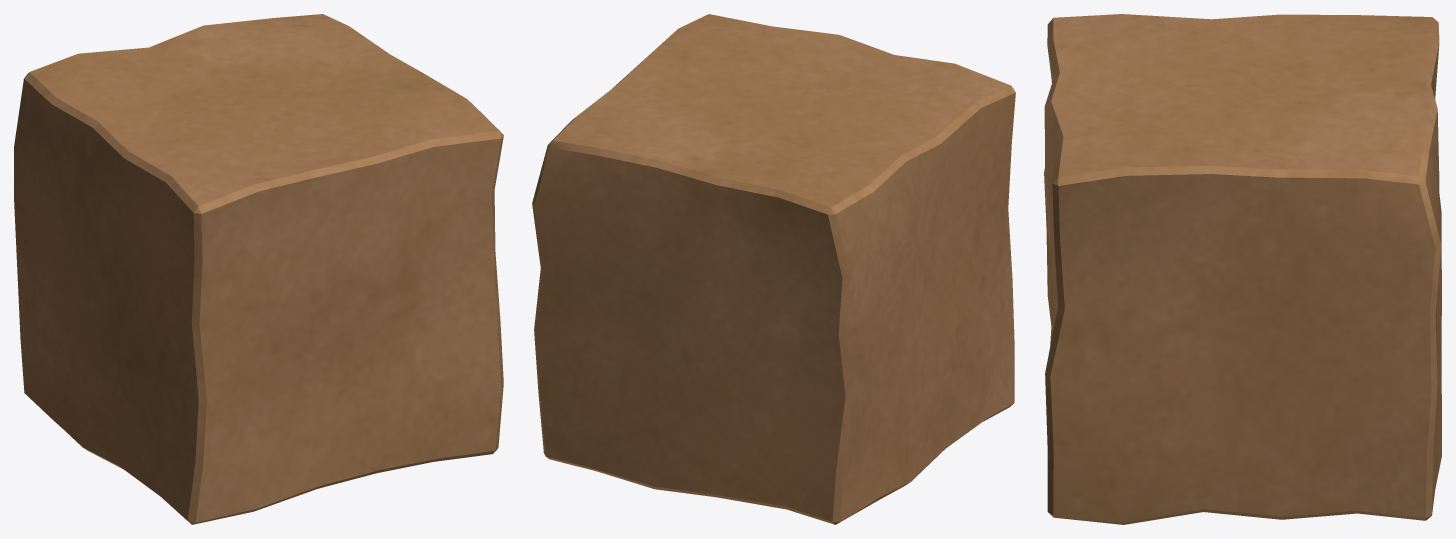
3 renders of one model, left to right at view 1: azimuth 30°, elevation 25°; view 2: azimuth 150°, elevation 25°; view 3: azimuth 270°, elevation 25°, orthographic. The views are drawn at different scales.
Parts seen in each view (by area): view 1: R1_Kub; view 2: R1_Kub; view 3: R1_Kub.
Boxes of the visible parts, box(x1,y1,x2,y2) form: R1_Kub: box(14, 14, 503, 524); R1_Kub: box(532, 14, 1015, 524); R1_Kub: box(1044, 14, 1441, 524).
Bounding box in the file's own units: 0.00519 × 0.00519 × 0.00519.
Materials: 1 (1 with a texture image).
